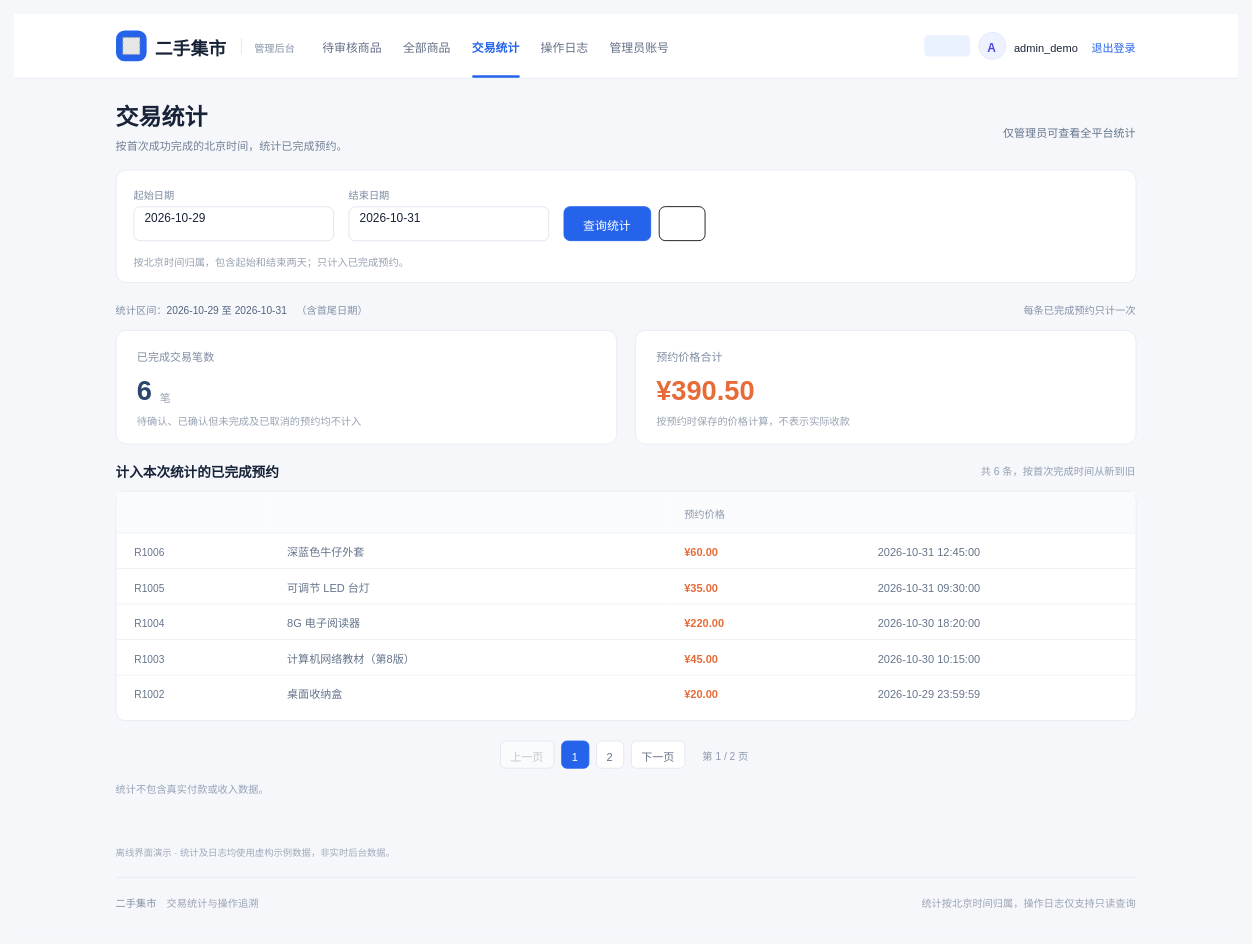
The diagram is 1252 pixels wide and 944 high, and some of its shapes have lost their labels. Grey dashed boxes stand in for pictures. Here are the shapes that lost their labels. From the top down, the centre of each, then its label:
the point at 947,45: 管理员
the point at 681,223: 重置
the point at 192,512: 预约编号
the point at 467,512: 商品
the point at 997,512: 首次完成时间（北京时间）
